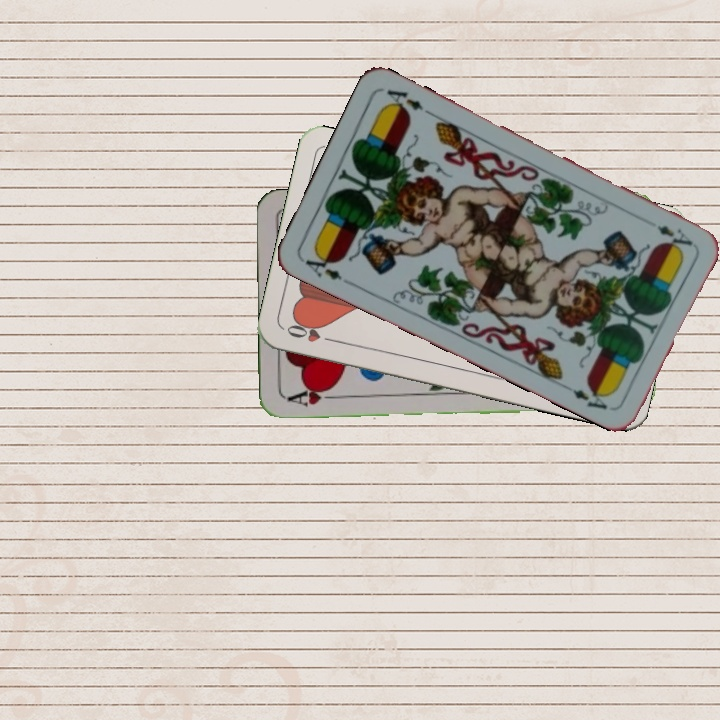EA: (301, 248, 355, 288), (652, 221, 696, 249)
HA: (283, 382, 340, 409)
HO: (282, 318, 340, 346)
